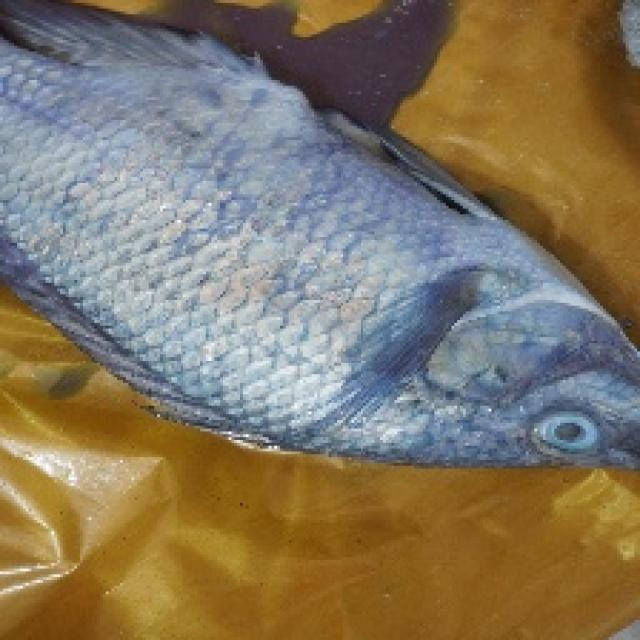Non-Fresh: (82, 84, 640, 500), (523, 392, 612, 475)
